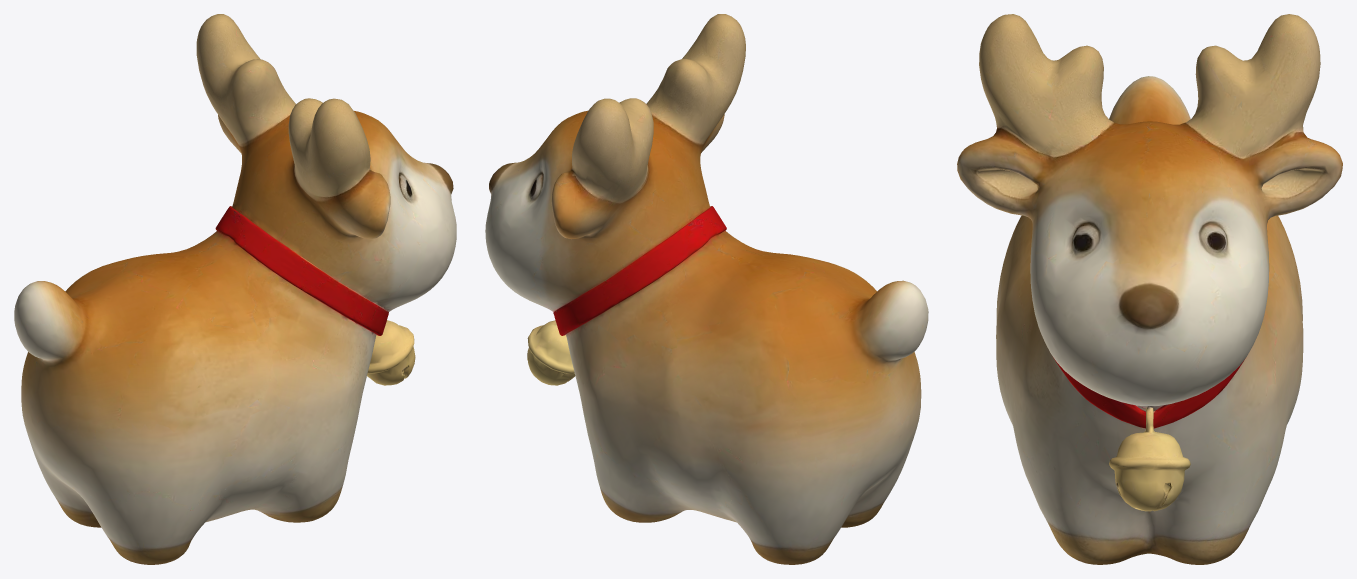
File: reindeer.glb
3 renders of one model, left to right at view 1: azimuth 30°, elevation 25°; view 2: azimuth 150°, elevation 25°; view 3: azimuth 270°, elevation 25°, orthographic. The views are drawn at different scales.
Bounding box in the file's own units: 2 × 1.96 × 1.28.
1 material, 1 textured.
